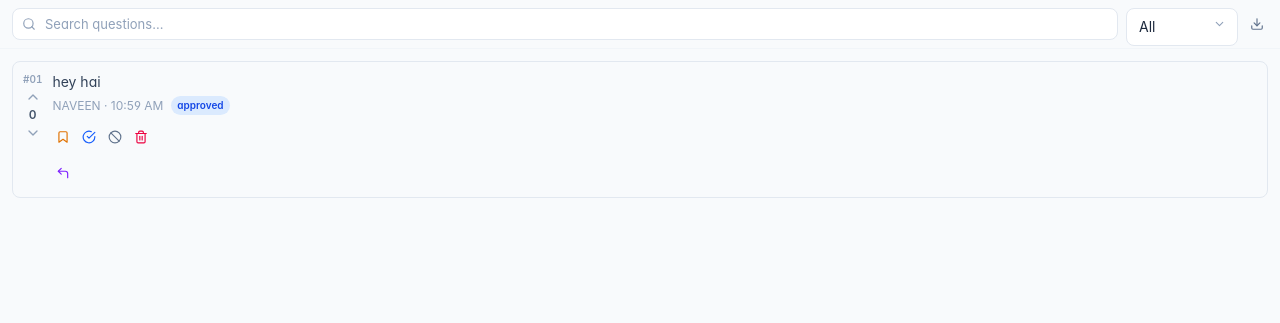
Scenario: when the answer could not be sent › says so instead of closing the box
Click the button named "answer": (63,173) [52,159,74,187]
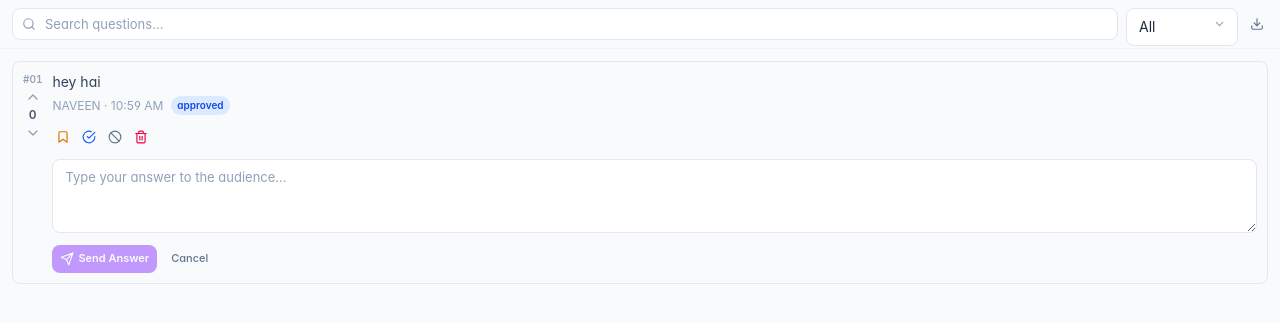
In the text box named "answer the question": (655,196) [52,159,1257,233], type "Doors open at nine."
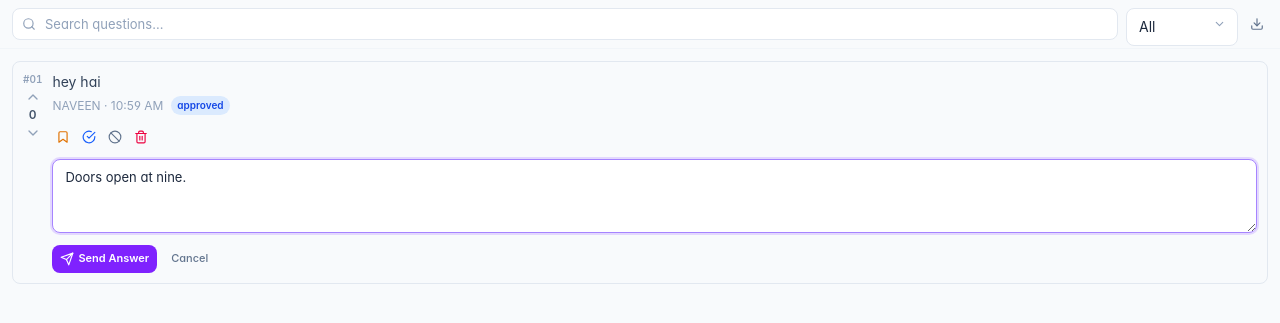
Click the button "Send Answer": (105,259) [52,245,157,273]
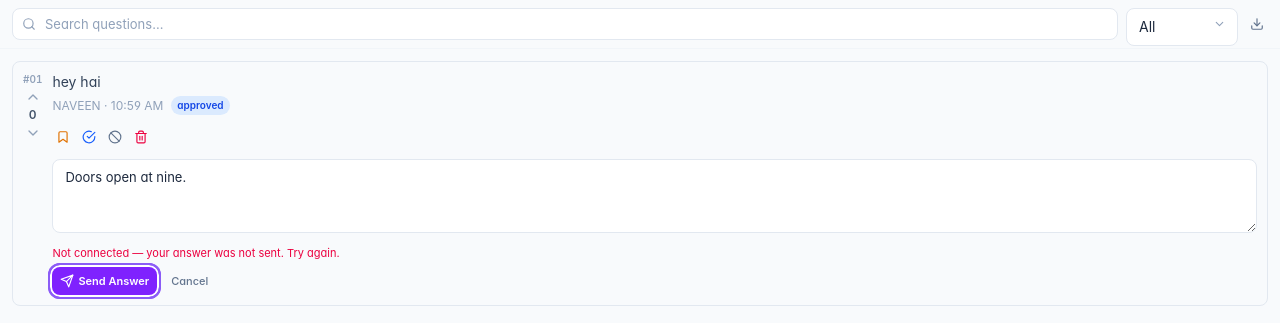
expect the text "Not connected — your answer was not sent. Try again." is shown: met, box [52,246,340,260]
